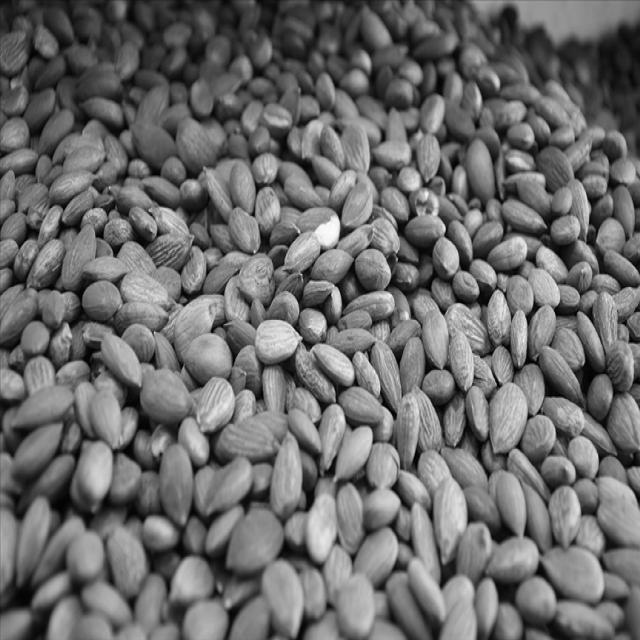Kayisi Cekirdegi: (141, 371, 188, 422), (178, 115, 217, 173), (256, 319, 304, 362), (200, 378, 232, 433), (422, 309, 450, 365), (84, 254, 129, 283), (318, 249, 354, 285)
